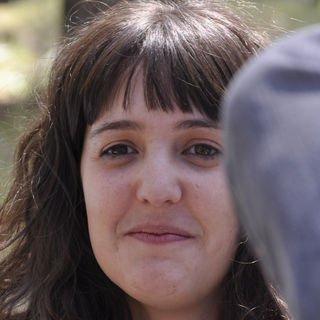eye: (169, 132, 227, 169), (93, 134, 147, 164)
